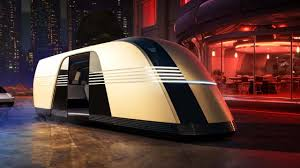bus: (32, 38, 237, 141)
